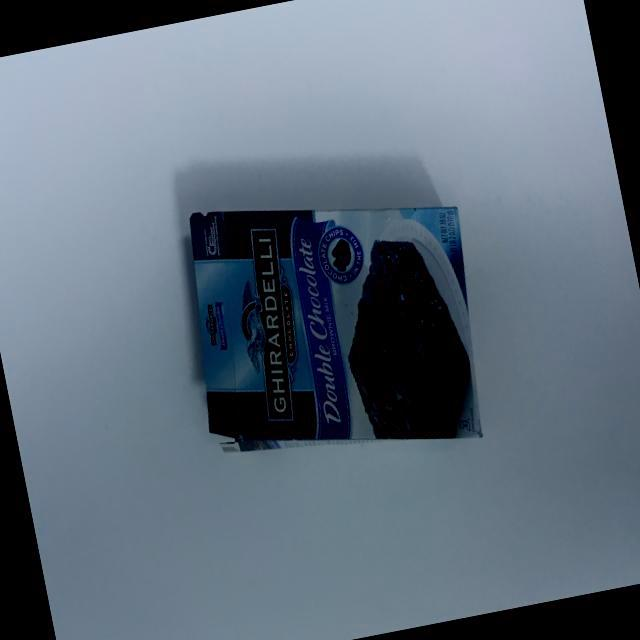paper: (151, 153, 528, 493)
